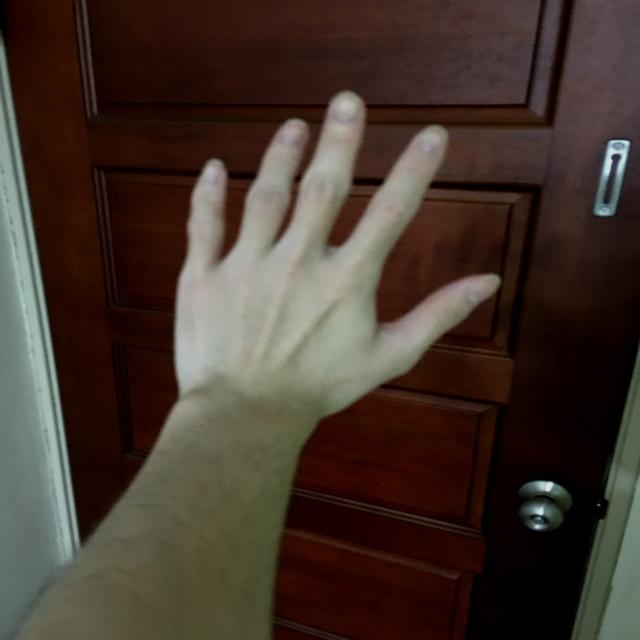no_glove: (148, 70, 512, 457)
